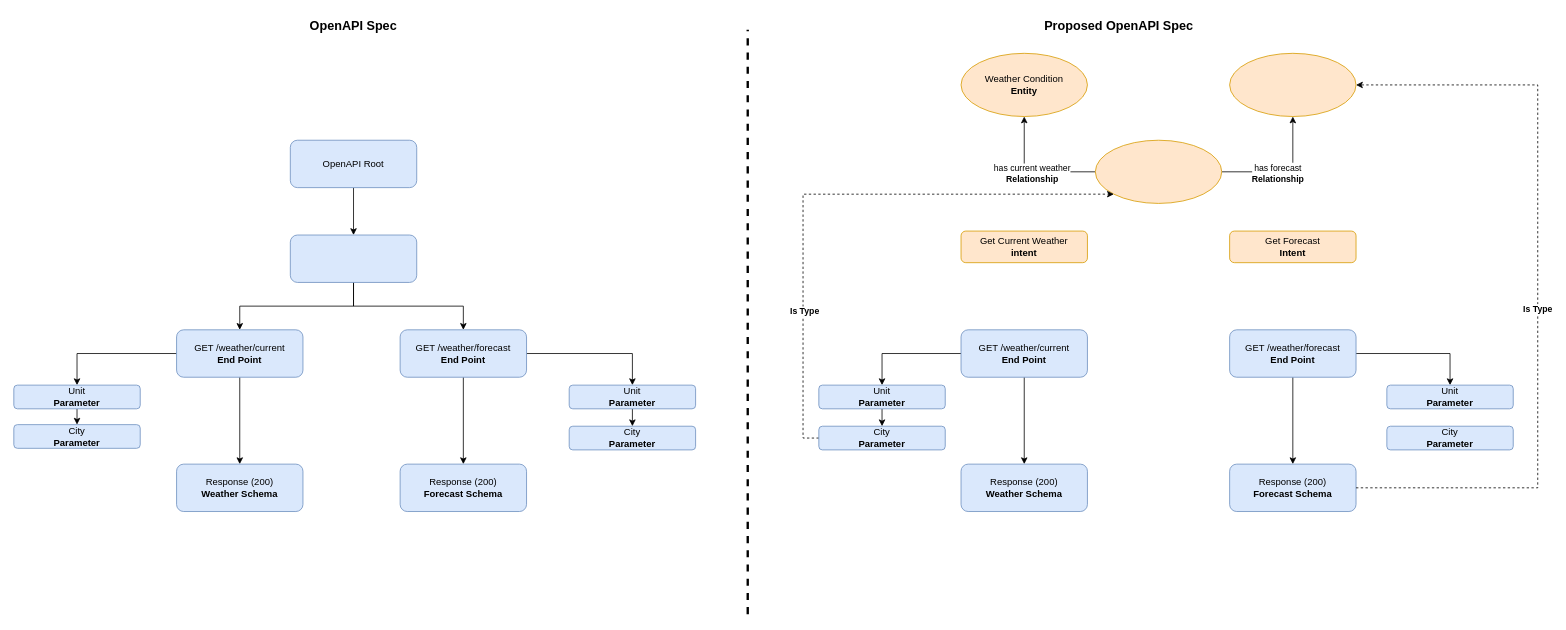
Some shapes in this 1566 by 630 pixel diagram are drawn without their labels. Here are the shapes that lost their labels. From the top down, the centre of each, then its label:
pixel 1292 85: Weather Forecast Entity
pixel 1158 171: Location Entity
pixel 353 258: Paths
